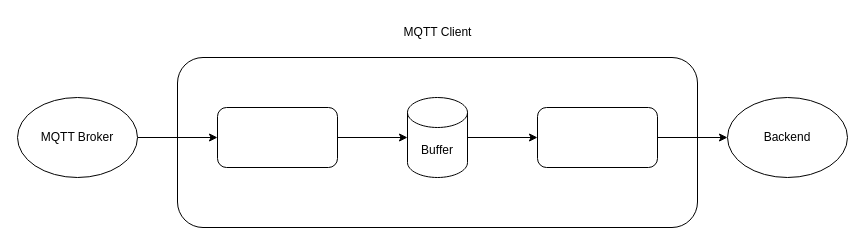
Image size: 865x245. Some labels were removed from this diagram. Here are the shapes that lost their labels. From the top down, the box of each, then its label:
(216, 106, 338, 168): MQTT Connector
(536, 106, 658, 168): Rest sender
